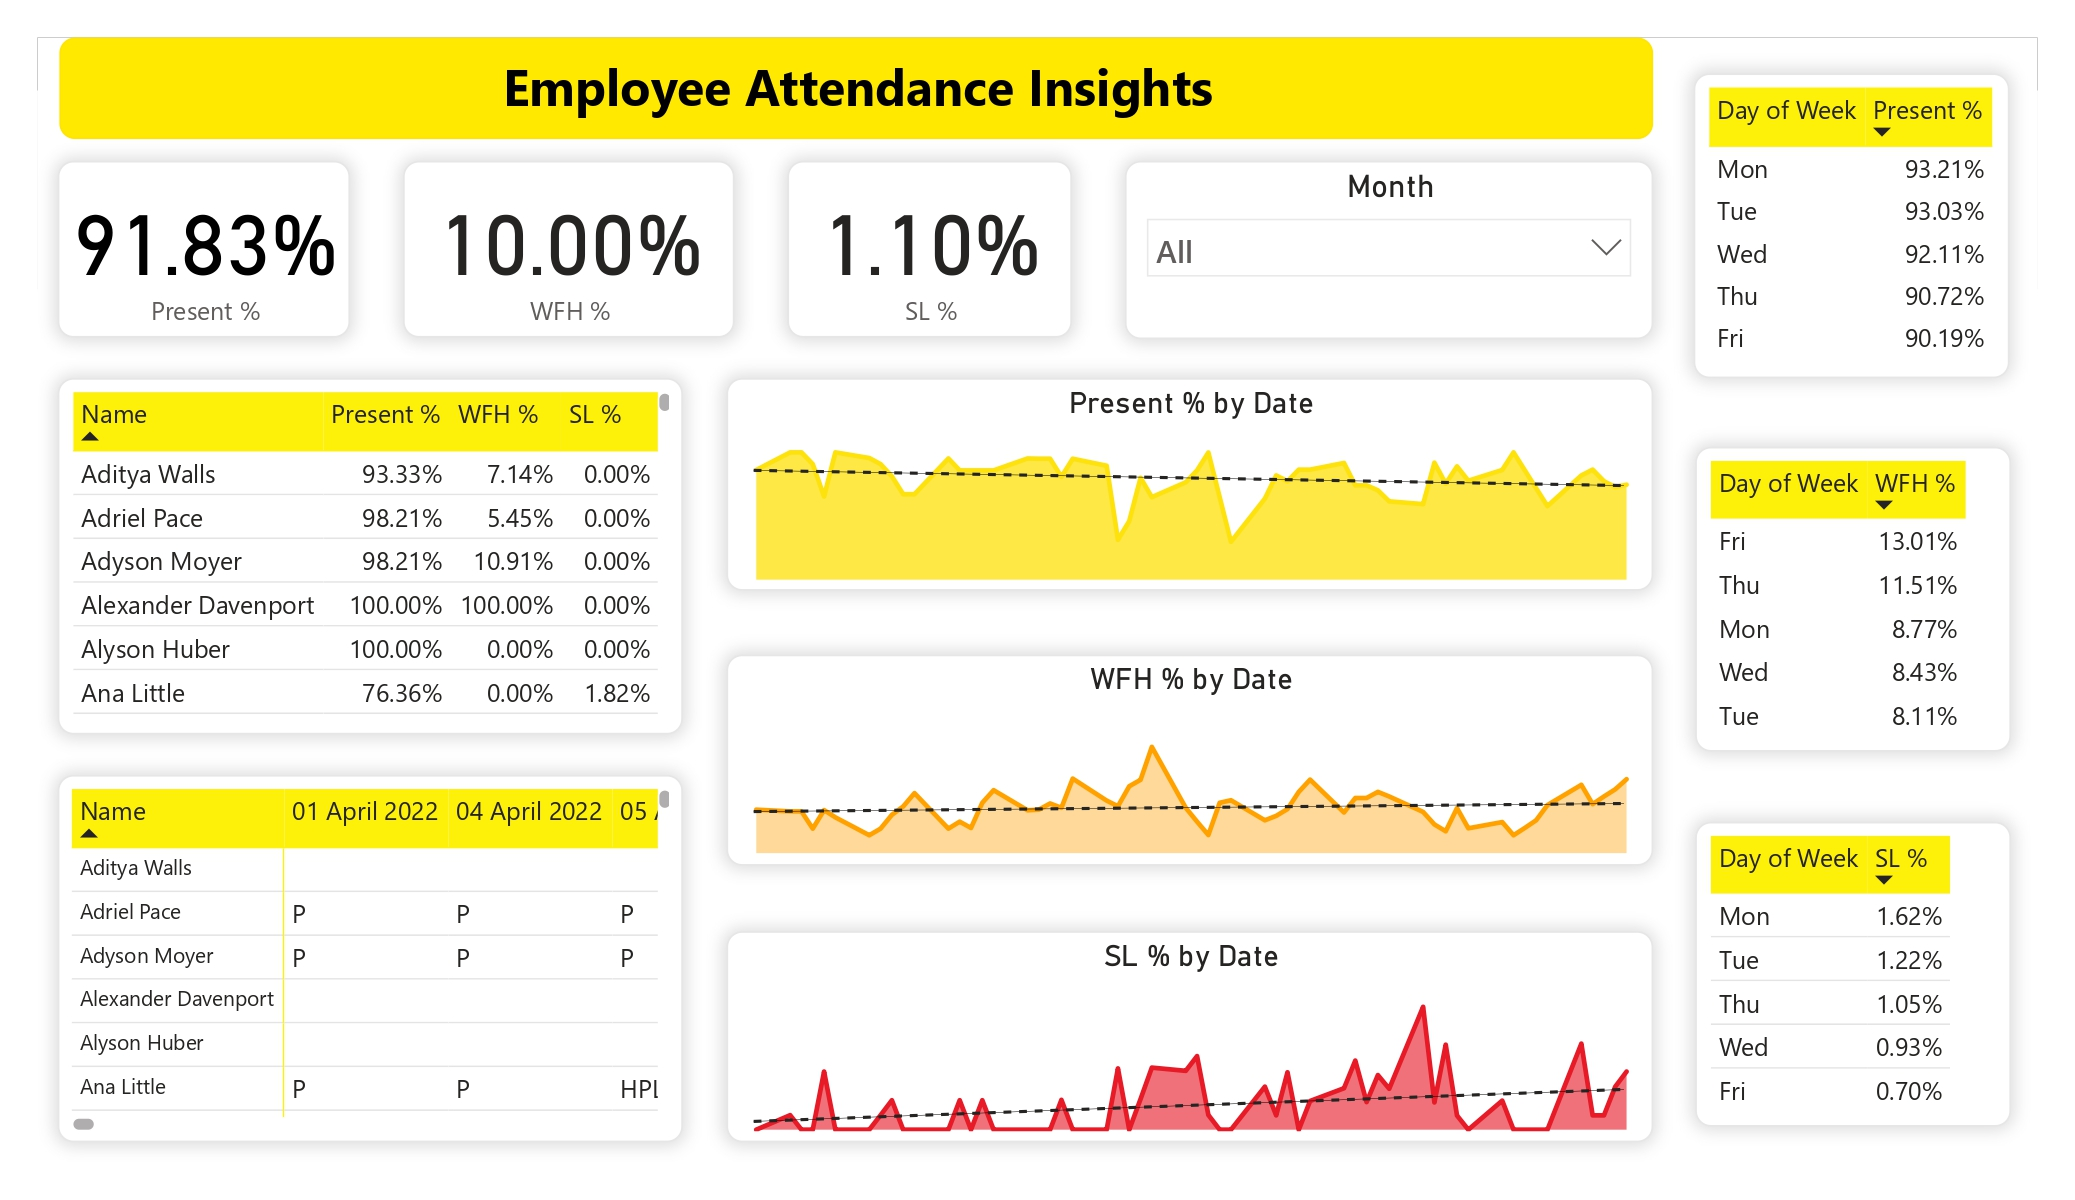

The dashboard page shown, as its layout file describes it:
{"tool":"powerbi","page":{"name":"Page 1","canvas":[1280,720],"ordinal":0},"visuals":[{"type":"card","fields":{"Values":["Measure.Present %"]},"box":[12.7,78.9,187.3,112.7],"z":0},{"type":"slicer","title":"Month","fields":{"Values":["Finall Data.Month"]},"box":[695.6,79.4,338.2,113.2],"z":1000},{"type":"card","fields":{"Values":["Measure.WFH %"]},"box":[234.3,78.9,211.3,112.7],"z":2000},{"type":"card","fields":{"Values":["Measure.SL %"]},"box":[479.8,78.9,181.7,112.7],"z":3000},{"type":"tableEx","fields":{"Values":["Finall Data.Name","Measure.Present %","Measure.WFH %","Measure.SL %"]},"box":[12.7,217.6,400,228.2],"z":4000},{"type":"pivotTable","fields":{"Rows":["Finall Data.Name"],"Values":["Min(Finall Data.Value)"],"Columns":["Finall Data.Date"]},"box":[12.7,471.8,400,235.2],"z":5000},{"type":"areaChart","fields":{"Y":["Measure.Present %"],"Category":["Finall Data.Date"]},"box":[440.8,218.3,593,135.2],"z":6000},{"type":"areaChart","fields":{"Y":["Measure.WFH %"],"Category":["Finall Data.Date"]},"box":[440.8,395.1,593,135.2],"z":7000},{"type":"areaChart","fields":{"Y":["Measure.SL %"],"Category":["Finall Data.Date"]},"box":[440.8,571.8,593,135.2],"z":8000},{"type":"tableEx","fields":{"Values":["Finall Data.Day of Week","Measure.Present %"]},"box":[1060,22.8,201.8,194.5],"z":9000,"group":"g1"},{"type":"textbox","box":[13.8,0,1020,64.6],"z":10000},{"type":"tableEx","fields":{"Values":["Finall Data.Day of Week","Measure.WFH %"]},"box":[1060.6,261.5,202.8,195.8],"z":11000,"group":"g1"},{"type":"tableEx","fields":{"Values":["Finall Data.Day of Week","Measure.SL %"]},"box":[1060.6,501.3,202.8,195.8],"z":12000,"group":"g1"},{"type":"group","id":"g1","title":"Group 1","box":[1060,22.8,203.4,674.3],"z":12001}]}

Visuals, with their boxes on the page's 1280x720 design canvas (x1, y1, x2, y2). These are canvas units, not pixel positions in the 2075x1200 screenshot, which may show the page scaled, cropped or inside an application window:
card - Measure.Present %: bbox(13, 79, 200, 192)
"Month" slicer: bbox(696, 79, 1034, 193)
card - Measure.WFH %: bbox(234, 79, 446, 192)
card - Measure.SL %: bbox(480, 79, 662, 192)
tableEx - Finall Data.Name x Measure.Present %: bbox(13, 218, 413, 446)
pivotTable - Finall Data.Name x Min(Finall Data.Value): bbox(13, 472, 413, 707)
areaChart - Measure.Present % x Finall Data.Date: bbox(441, 218, 1034, 354)
areaChart - Measure.WFH % x Finall Data.Date: bbox(441, 395, 1034, 530)
areaChart - Measure.SL % x Finall Data.Date: bbox(441, 572, 1034, 707)
tableEx - Finall Data.Day of Week x Measure.Present %: bbox(1060, 23, 1262, 217)
textbox: bbox(14, 0, 1034, 65)
tableEx - Finall Data.Day of Week x Measure.WFH %: bbox(1061, 262, 1263, 457)
tableEx - Finall Data.Day of Week x Measure.SL %: bbox(1061, 501, 1263, 697)
"Group 1" group: bbox(1060, 23, 1263, 697)
